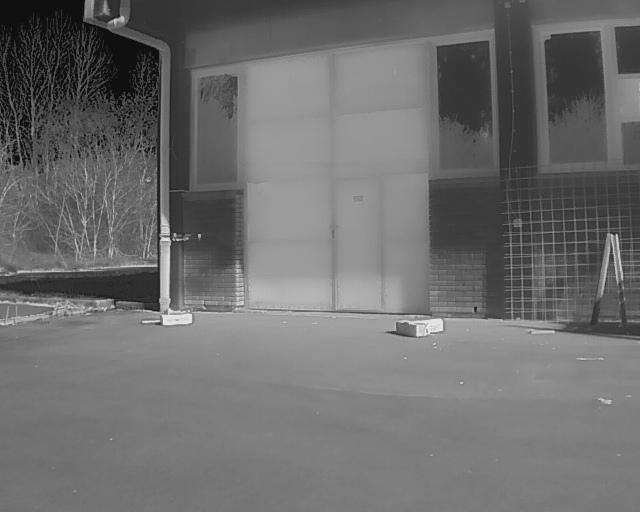drone: (148, 227, 206, 252)
